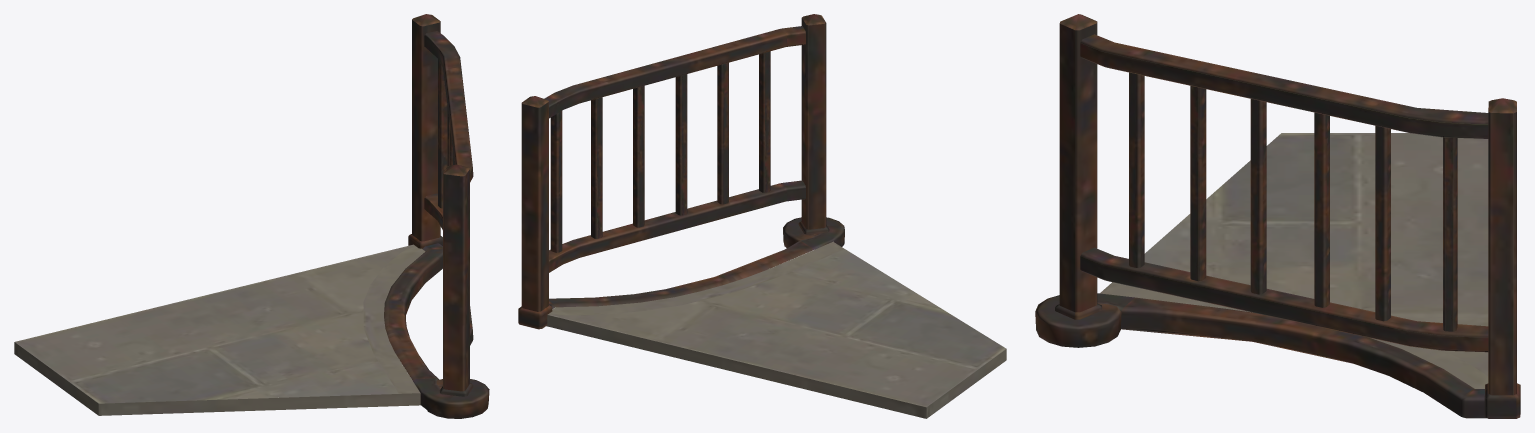
The model's file is stairs.spiral.landing.brick.glb.
The picture shows the model from 3 angles, left to right: view 1: azimuth 30°, elevation 25°; view 2: azimuth 150°, elevation 25°; view 3: azimuth 270°, elevation 25°; orthographic projection. The views are drawn at different scales.
Parts seen in each view (by area): view 1: model; view 2: model; view 3: model.
Part boxes in pixels (x1,y1,x2,y2): model: (14, 14, 489, 418); model: (518, 14, 1006, 418); model: (1035, 14, 1520, 418).
Bounding box in the file's own units: 2.27 × 1.24 × 1.72.
Materials: 1 (1 with a texture image).
